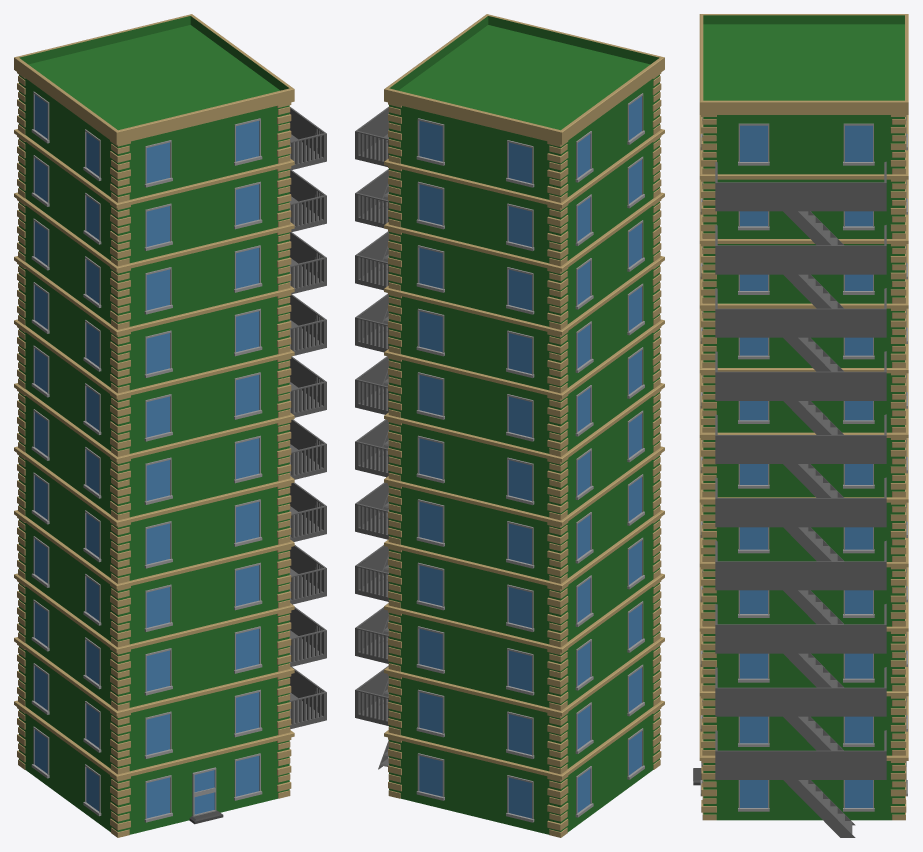
File: GebouwGroenHoog.fbx
3 renders of one model, left to right at view 1: azimuth 30°, elevation 25°; view 2: azimuth 150°, elevation 25°; view 3: azimuth 270°, elevation 25°, orthographic.
Visible parts, largest first — view 1: gebouwGroenHoog; view 2: gebouwGroenHoog; view 3: gebouwGroenHoog.
Part boxes in pixels (bbox=[...]): gebouwGroenHoog: bbox=[14, 14, 326, 837]; gebouwGroenHoog: bbox=[355, 14, 664, 837]; gebouwGroenHoog: bbox=[693, 14, 908, 837].
Bounding box in the file's own units: 762 × 2364 × 642.
